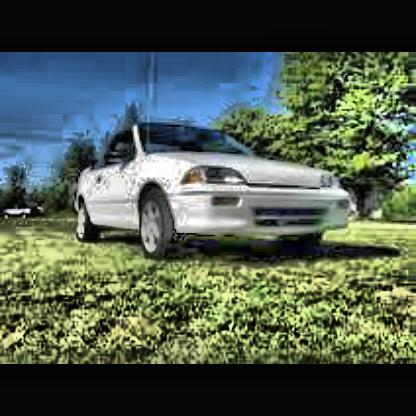Geo Metro Convertible 1993: (75, 114, 353, 272)
